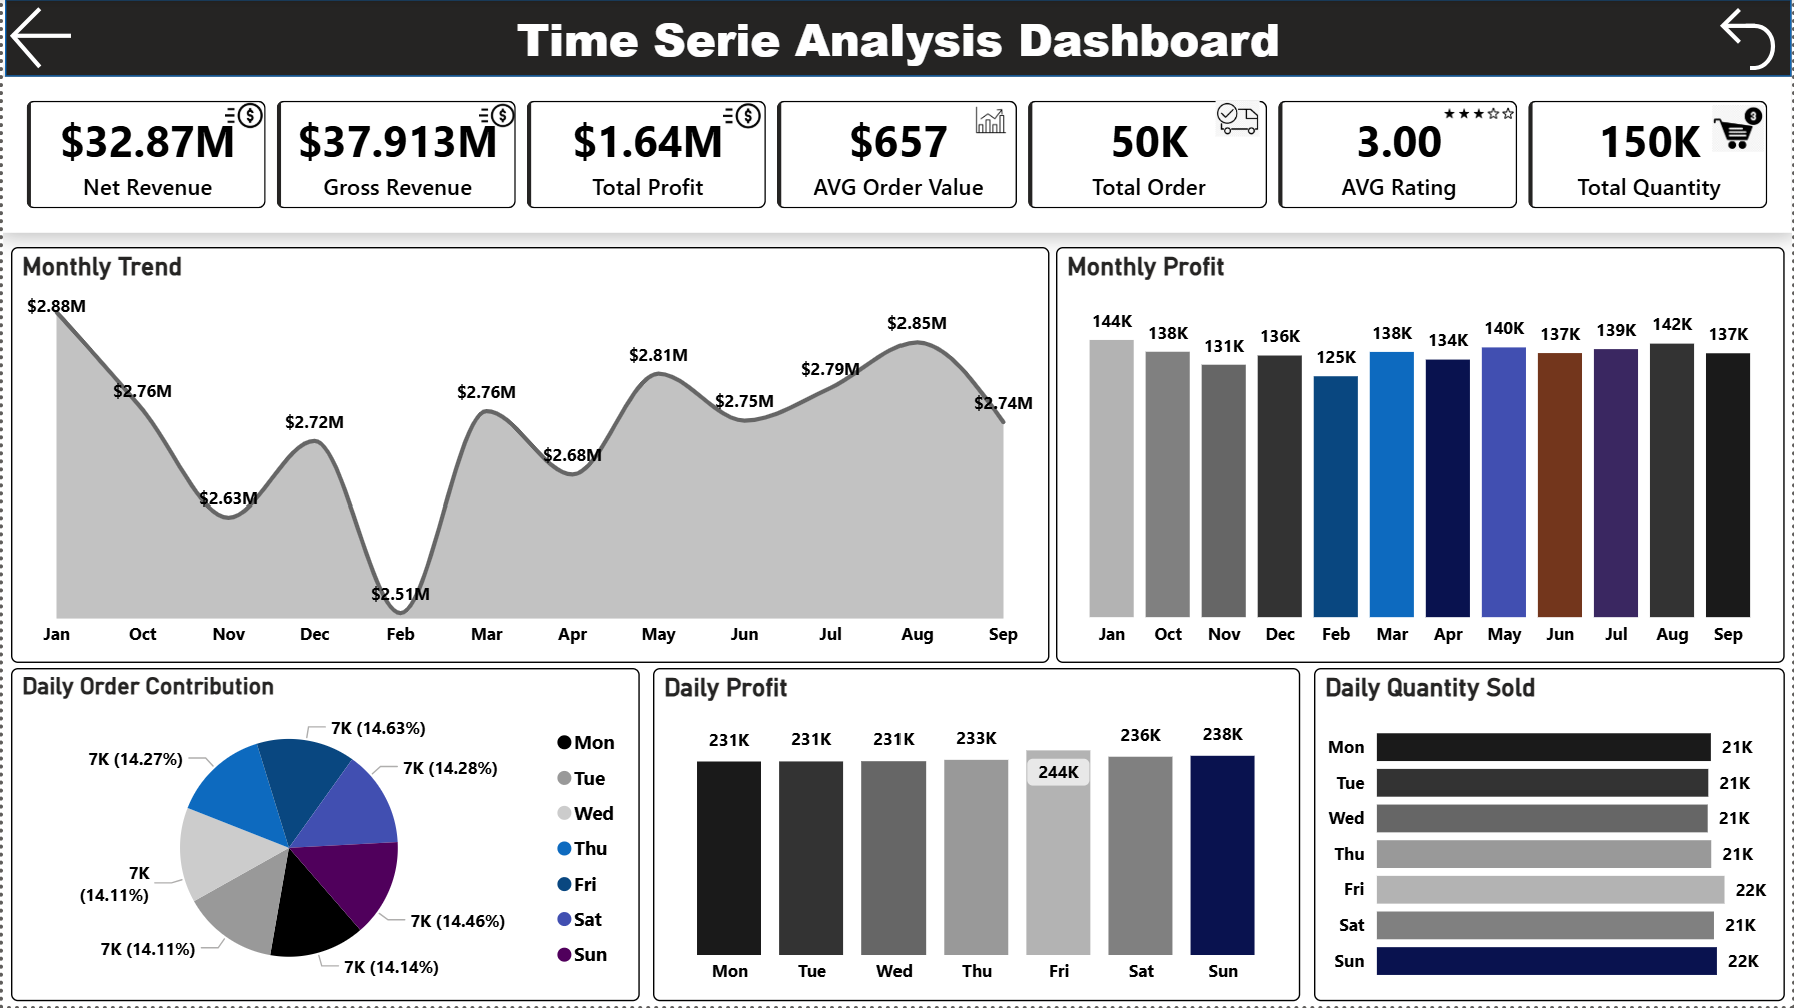

What the dashboard file says about the page in this screenshot:
{"tool":"powerbi","page":{"name":"Time_series","canvas":[1280,720],"ordinal":1},"visuals":[{"type":"cardVisual","fields":{"Data":["cleaned_dataset.Net Revenue","cleaned_dataset.Gross Revenue","cleaned_dataset.Total Profit","cleaned_dataset.AVG Order Value","cleaned_dataset.Total Order","cleaned_dataset.AVG Rating","cleaned_dataset.Total Quantity"]},"box":[0,55.6,1279.5,111.3],"z":0},{"type":"areaChart","title":"Monthly Trend","fields":{"Y":["cleaned_dataset.Net Revenue"],"Category":["cleaned_dataset.month_name"]},"box":[6.4,178,742.3,297.2],"z":1000},{"type":"image","box":[340.1,65.2,25.4,35],"z":2000},{"type":"image","box":[158.9,65.2,27,35],"z":3000},{"type":"image","box":[515,69.9,27,27],"z":4000},{"type":"image","box":[689.8,73.1,33.4,27],"z":5000},{"type":"image","box":[863,73.1,39.7,25.4],"z":6000},{"type":"image","box":[1012.5,47.7,87.4,69.9],"z":7000},{"type":"image","box":[1219.1,76.3,42.9,33.4],"z":8000},{"type":"columnChart","title":"Monthly Profit","fields":{"Category":["cleaned_dataset.month_name"],"Y":["cleaned_dataset.Total Profit"]},"box":[753.4,178,521.3,297.2],"z":9000},{"type":"pieChart","title":"Daily Order Contribution","fields":{"Y":["cleaned_dataset.Total Order"],"Category":["cleaned_dataset.day_name"]},"box":[6.4,478.4,449.8,238.4],"z":10000},{"type":"shape","box":[1.6,0,1277.9,55.6],"z":11000},{"type":"lineClusteredColumnComboChart","title":"Daily Profit","fields":{"Category":["cleaned_dataset.day_name"],"Y":["cleaned_dataset.Total Profit"]},"box":[465.7,478.4,462.5,238.4],"z":12000},{"type":"barChart","title":"Daily Quantity Sold","fields":{"Category":["cleaned_dataset.day_name"],"Y":["cleaned_dataset.Total Quantity"]},"box":[937.7,478.4,337,238.4],"z":13000},{"type":"actionButton","box":[0,0,82.6,55.6],"z":14000},{"type":"actionButton","box":[1219.1,0,60.4,57.2],"z":15000}]}

Visuals, with their boxes in screenshot pixels (x1, y1, x2, y2), scaled from the page's 1280x720 canvas onto the 1794x1008 screenshot:
cardVisual - cleaned_dataset.Net Revenue x cleaned_dataset.Gross Revenue: locate(0, 78, 1793, 234)
"Monthly Trend" areaChart: locate(9, 249, 1049, 665)
image: locate(477, 91, 512, 140)
image: locate(223, 91, 261, 140)
image: locate(722, 98, 760, 136)
image: locate(967, 102, 1014, 140)
image: locate(1210, 102, 1265, 138)
image: locate(1419, 67, 1542, 165)
image: locate(1709, 107, 1769, 154)
"Monthly Profit" columnChart: locate(1056, 249, 1787, 665)
"Daily Order Contribution" pieChart: locate(9, 670, 639, 1004)
shape: locate(2, 0, 1793, 78)
"Daily Profit" lineClusteredColumnComboChart: locate(653, 670, 1301, 1004)
"Daily Quantity Sold" barChart: locate(1314, 670, 1787, 1004)
actionButton: locate(0, 0, 116, 78)
actionButton: locate(1709, 0, 1793, 80)
